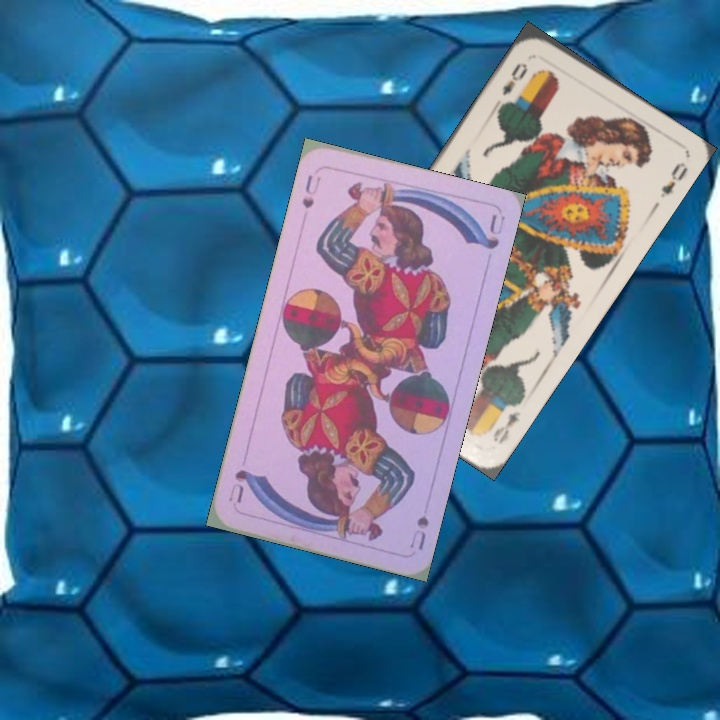EO: (488, 407, 523, 447), (498, 59, 531, 98)
SU: (297, 170, 324, 212), (406, 511, 432, 553)
